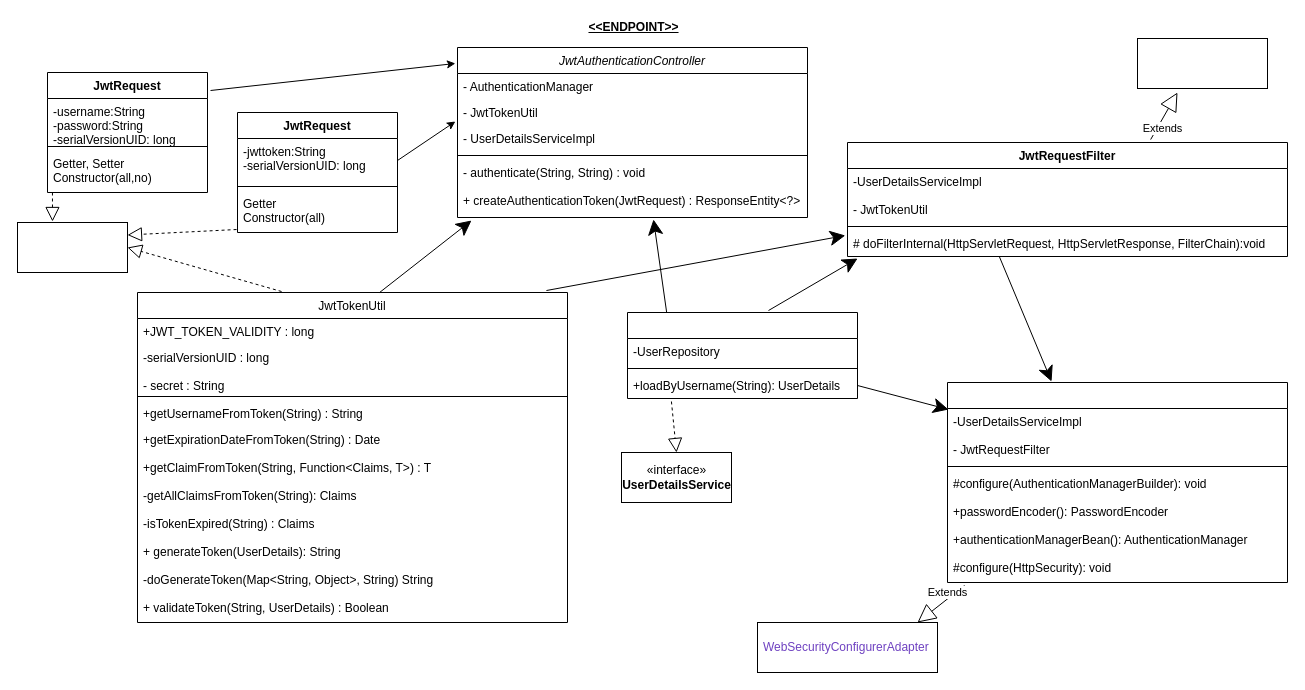
Some shapes in this 1305 by 690 pixel diagram are drawn without their labels. Here are the shapes that lost their labels. From the top down, the box of each, then its label:
(1136, 38, 1268, 88): OncePerRequestFilter
(16, 222, 128, 272): «interface» Serializable
(626, 312, 858, 398): UserDetailsServiceImpl
(946, 382, 1288, 582): WebSecurityConfig
